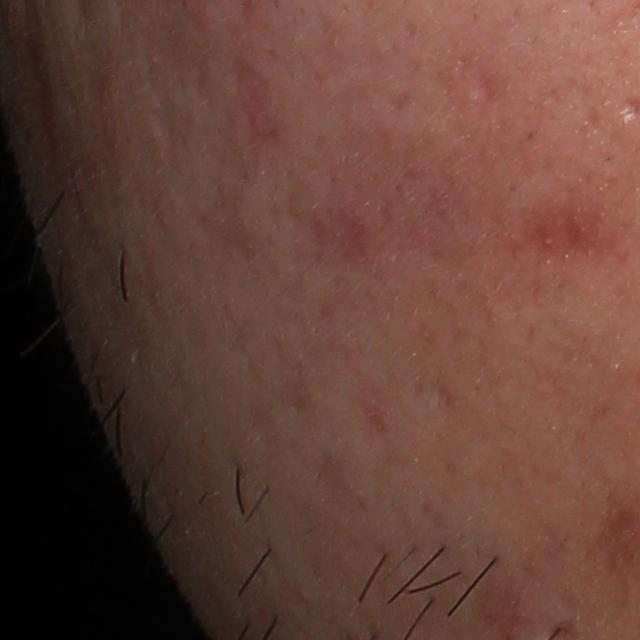atrophic_scar: (472, 72, 499, 103)
